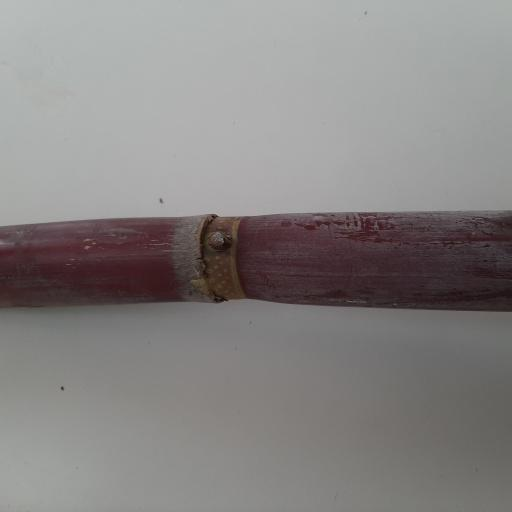Bud: (204, 229, 234, 251)
